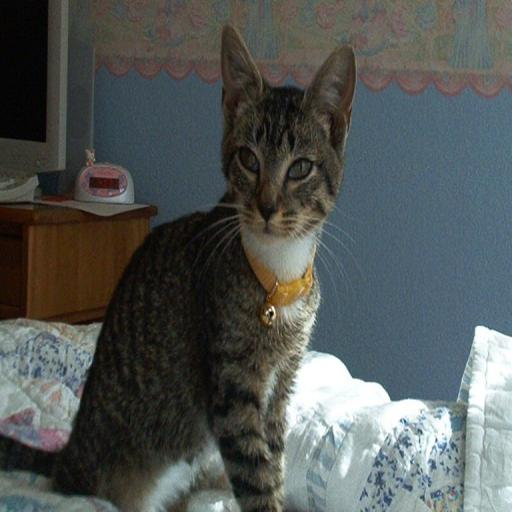cat: (0, 25, 357, 512)
